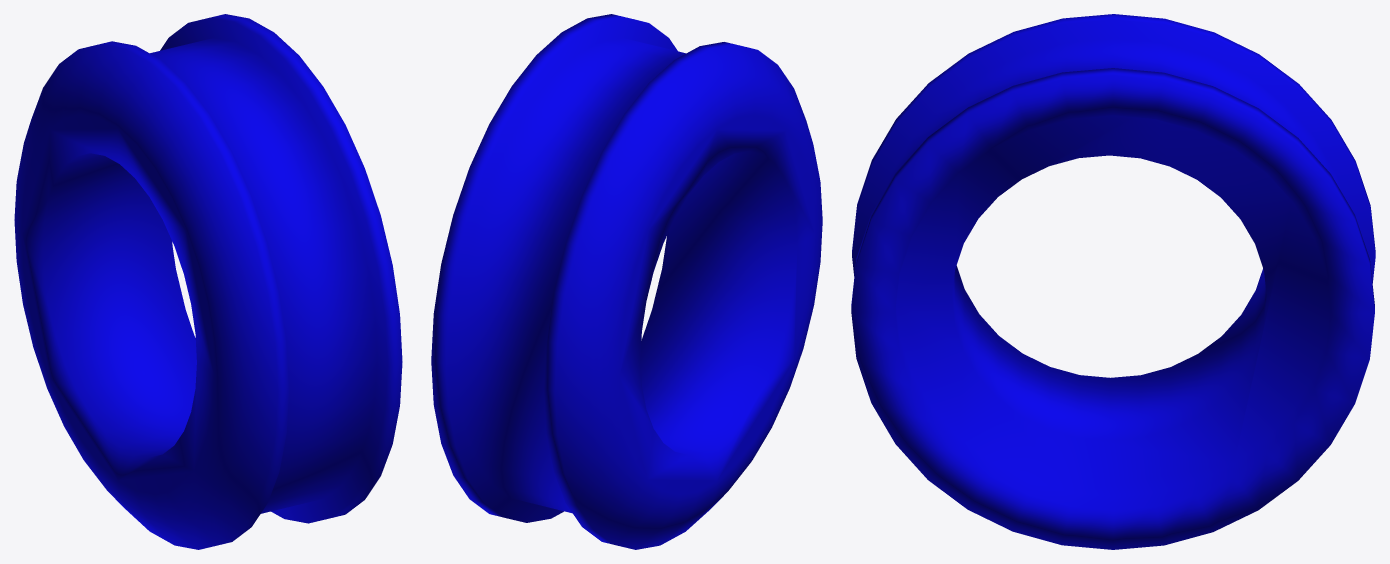
The model's file is FrontWheel.glb.
3 renders of one model, left to right at view 1: azimuth 30°, elevation 25°; view 2: azimuth 150°, elevation 25°; view 3: azimuth 270°, elevation 25°, orthographic.
Parts seen in each view (by area): view 1: llanta; view 2: llanta; view 3: llanta.
Part boxes in pixels (x1=…): llanta: x1=14, y1=14, x2=402, y2=549; llanta: x1=431, y1=14, x2=822, y2=549; llanta: x1=851, y1=14, x2=1375, y2=549.
Size of the model in its own units: 2.18 by 6.19 by 6.2.
